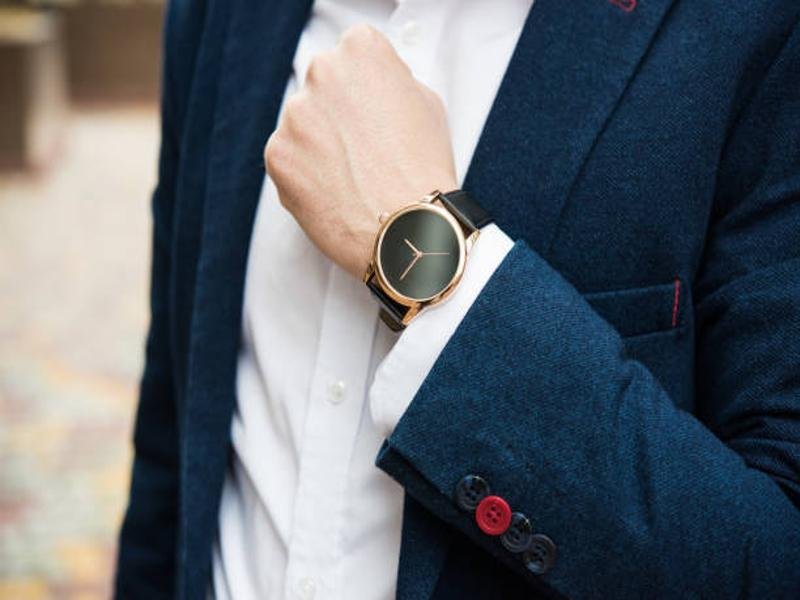watch: (363, 180, 497, 343)
